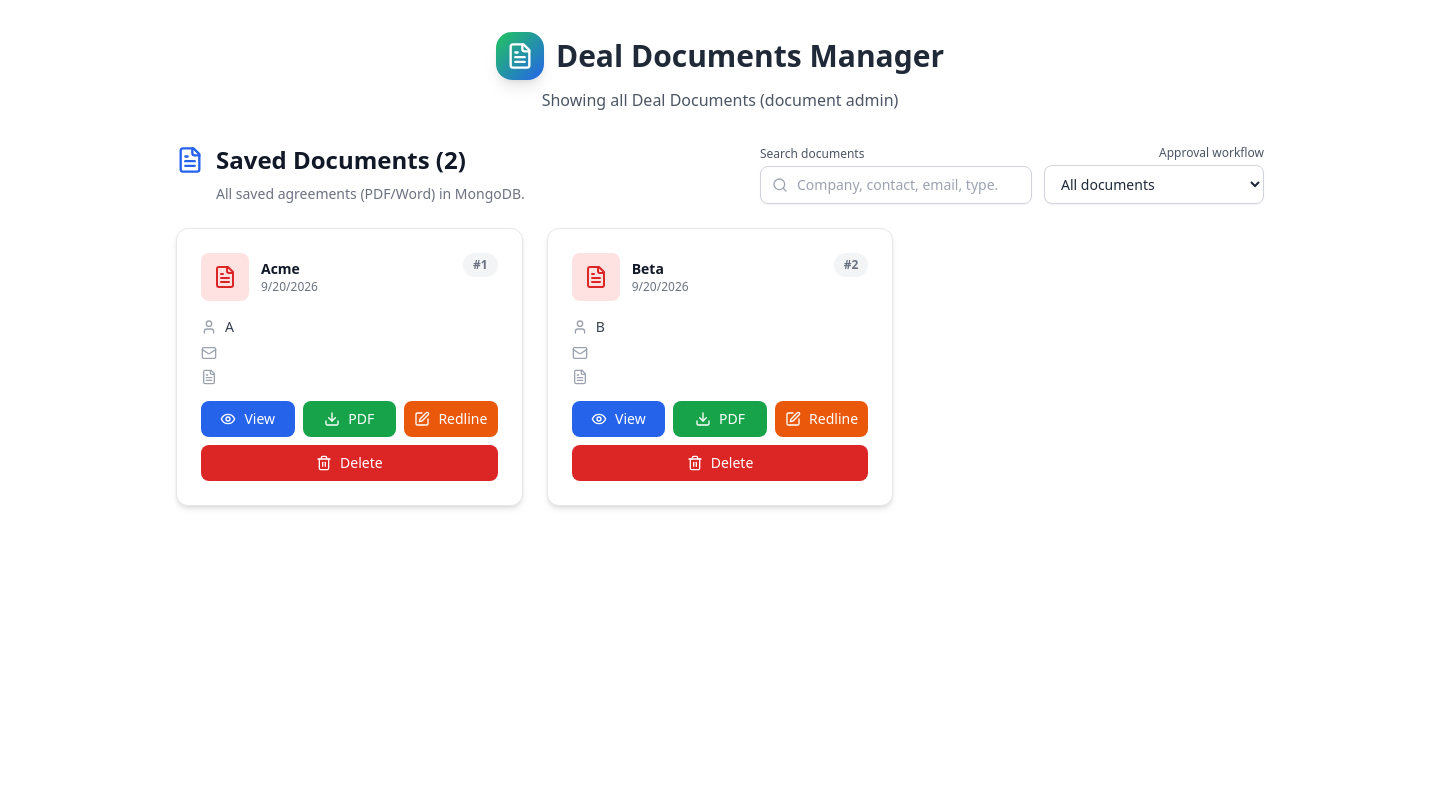
Documents page Delete button › keeps the document and shows an error when the server refuses
Check: the heading "Saved Documents (2)" is shown, box [176, 143, 466, 176]
Click the button "Delete" below "Acme": (349, 463) [201, 445, 498, 481]
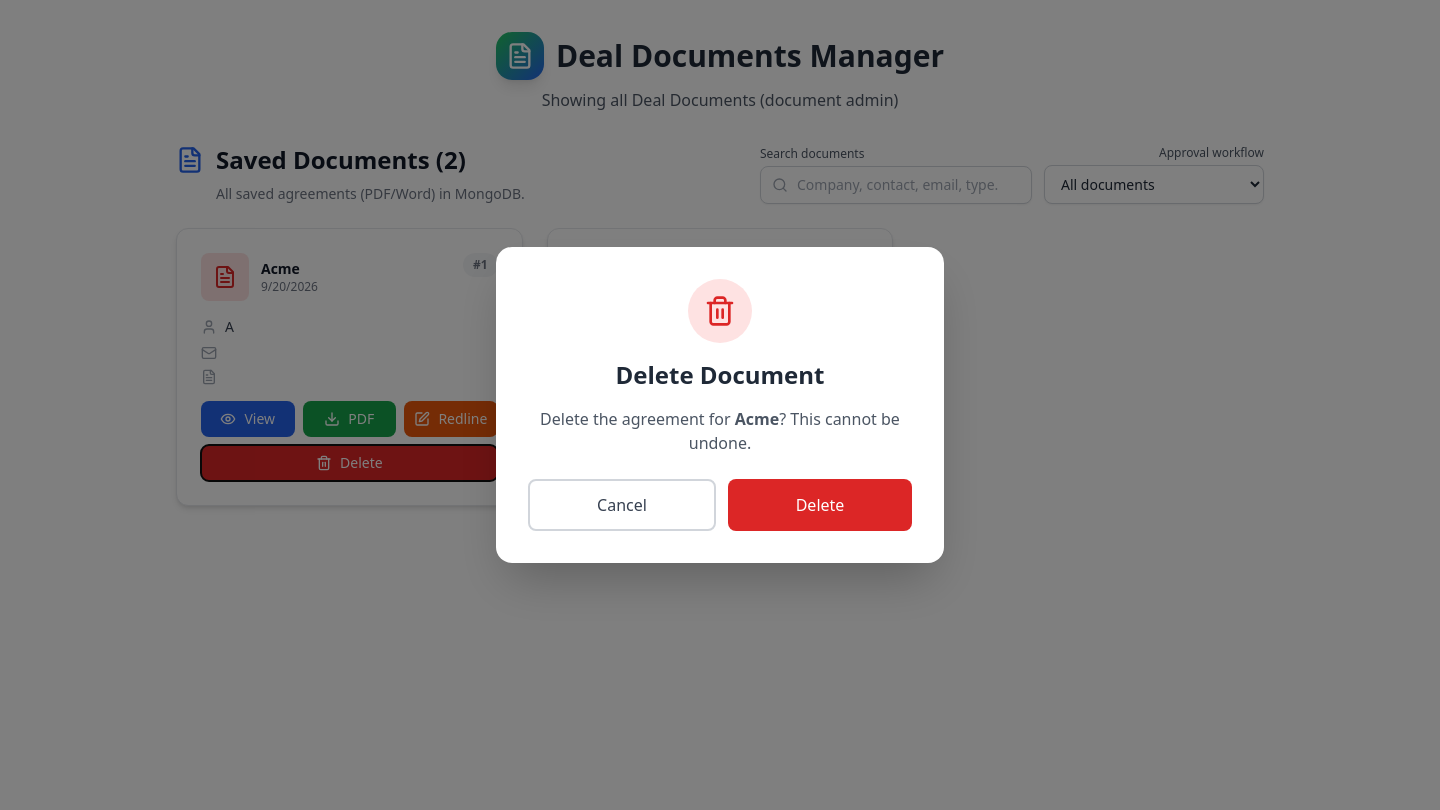
Click the button "Delete": (820, 505) [728, 479, 912, 531]
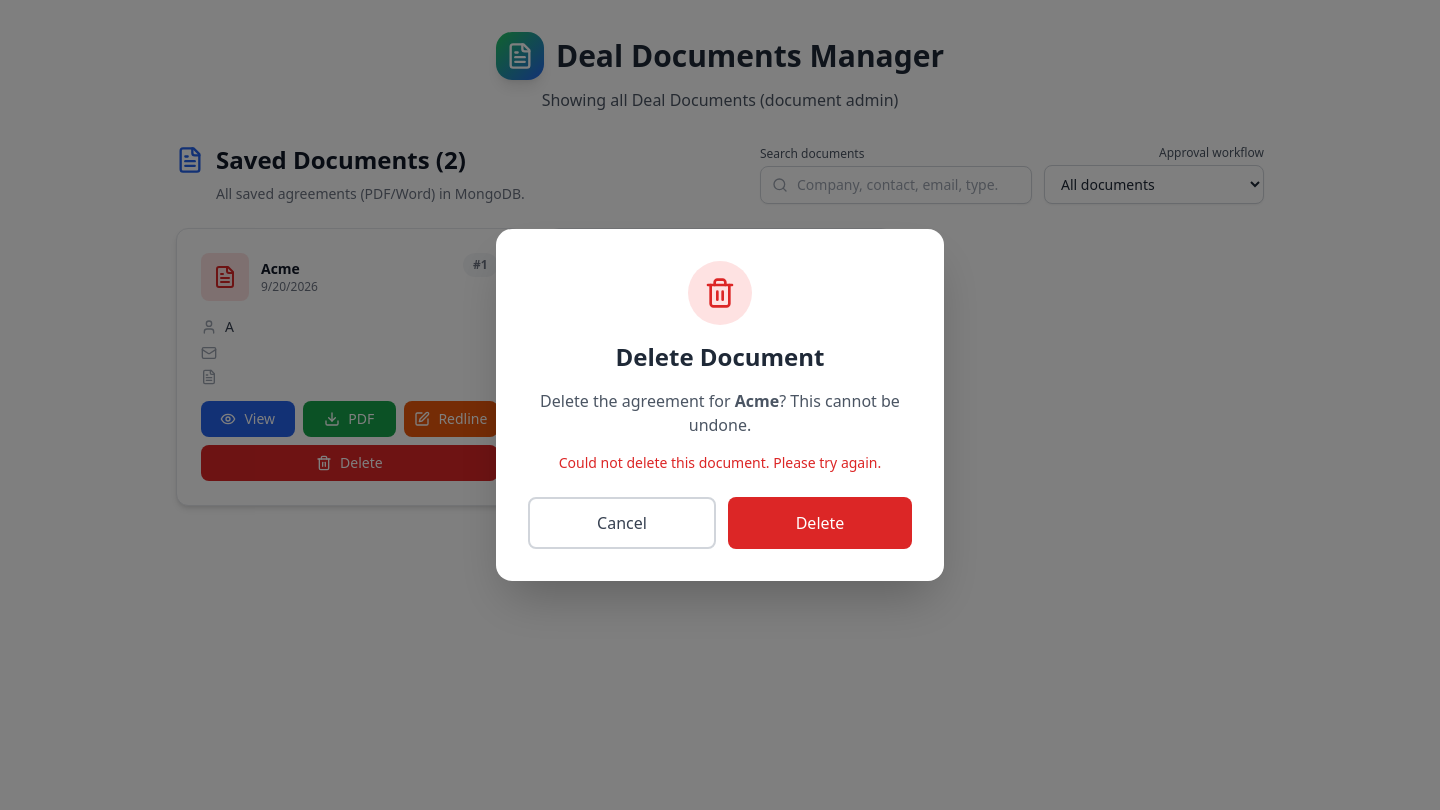
Check: the heading "Saved Documents (2)" is shown, box [176, 143, 466, 176]
Check: the text "Could not delete this document. Please try again." is shown, box [559, 453, 881, 472]
